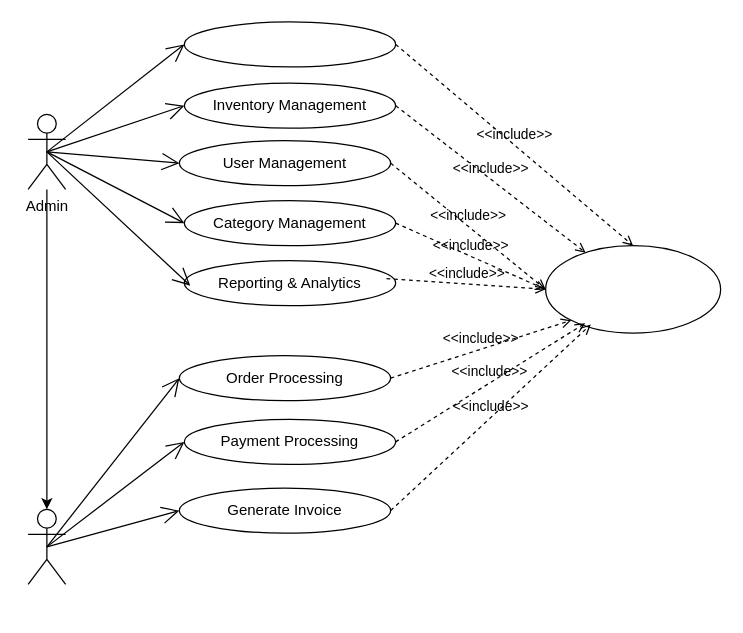
Some shapes in this 743 by 633 pixel diagram are drawn without their labels. The shapes that lost their labels are listed below. From the top down, each one's centre as x and y in pixels, then its label:
At pixel 289 44: "Product Management".
At pixel 632 288: "Login".
At pixel 46 546: "Cashier".
